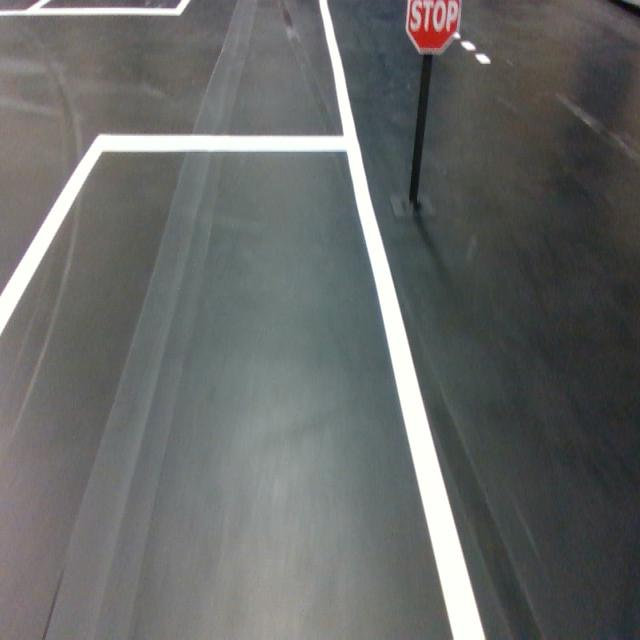stop-sign: (404, 0, 461, 55)
